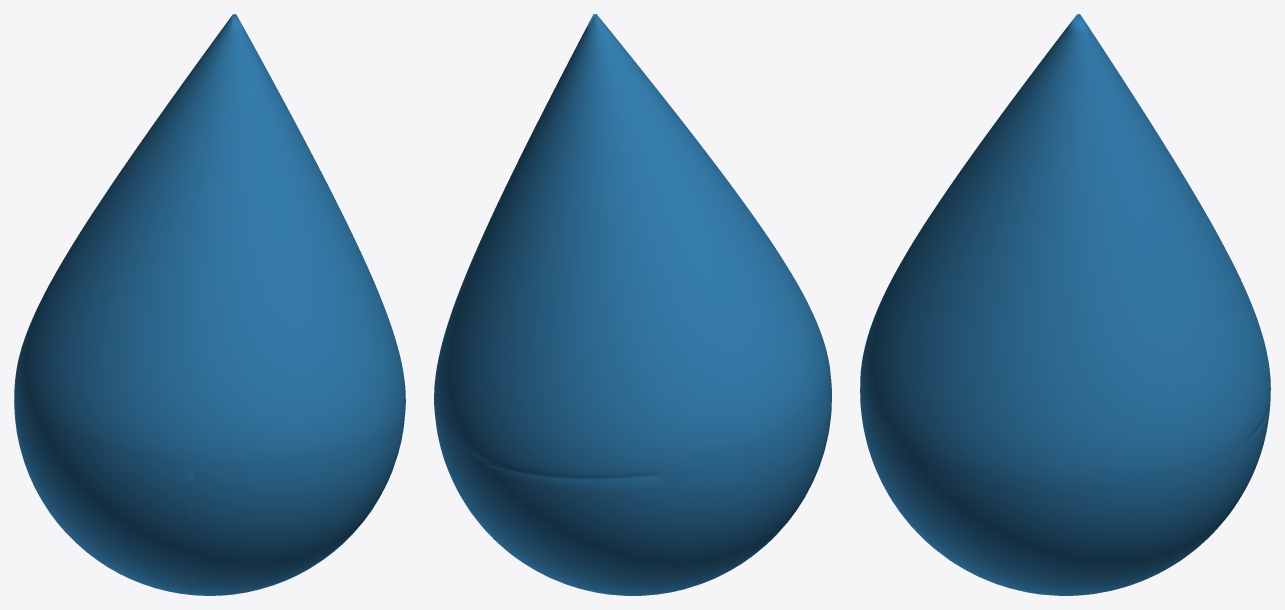
File: droplet.glb
The picture shows the model from 3 angles, left to right: view 1: azimuth 30°, elevation 25°; view 2: azimuth 150°, elevation 25°; view 3: azimuth 270°, elevation 25°; orthographic projection. The views are drawn at different scales.
Visible parts, largest first — view 1: Object_2; view 2: Object_2; view 3: Object_2.
Boxes of the visible parts, x1,y1,x2,y2 form: Object_2: [14, 14, 405, 595]; Object_2: [434, 14, 831, 595]; Object_2: [860, 14, 1270, 595].
Bounding box in the file's own units: 0.5131 × 0.7964 × 0.513.
Materials: 1 (1 with a texture image).
